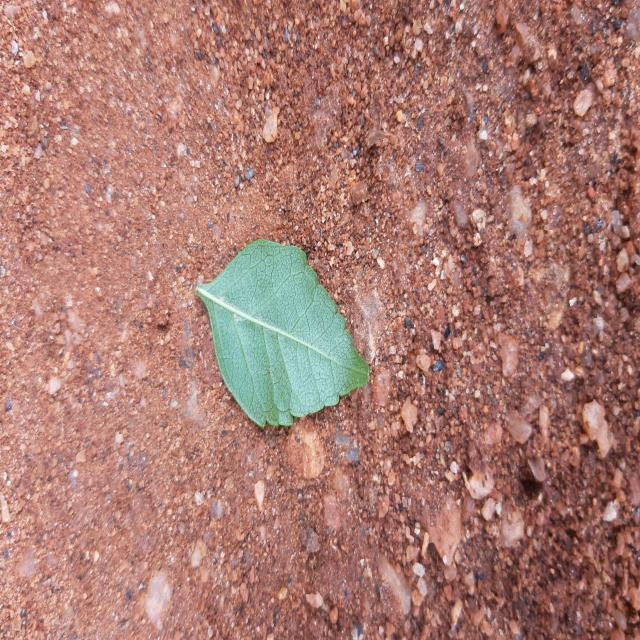defectedtecoma: (196, 240, 319, 318)
tecoma: (196, 240, 369, 427)
